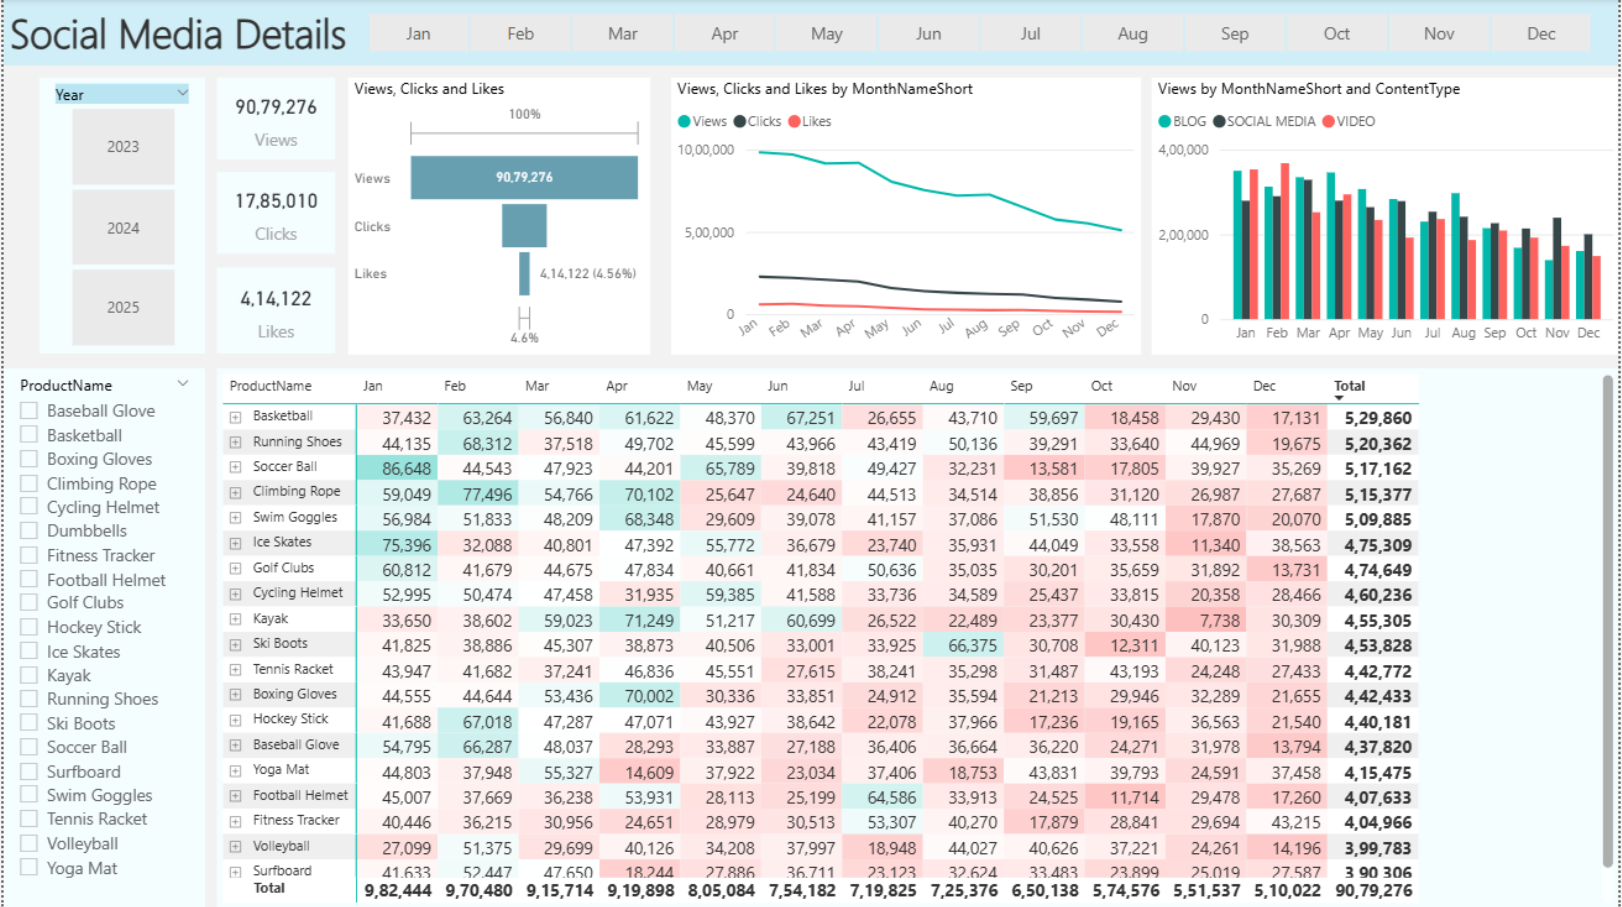

This screenshot's page, from the dashboard's own definition file:
{"tool":"powerbi","page":{"name":"Social Media Details","canvas":[1280,720],"ordinal":2},"visuals":[{"type":"textbox","box":[0,0,1280,52.6],"z":0},{"type":"slicer","fields":{"Values":["dim_products.ProductName"]},"box":[0,61.6,159.5,658.5],"z":1000},{"type":"lineChart","fields":{"Y":["_Calculations.Views","_Calculations.Clicks","_Calculations.Likes"],"Category":["Calendar.MonthNameShort"]},"box":[528.5,61.9,371.6,218.8],"z":2000},{"type":"funnel","fields":{"Y":["_Calculations.Views","_Calculations.Clicks","_Calculations.Likes"]},"box":[272.5,61.9,239.5,218.8],"z":3000},{"type":"card","fields":{"Values":["_Calculations.Views"]},"box":[168.3,61.9,93.9,65],"z":4000},{"type":"card","fields":{"Values":["_Calculations.Clicks"]},"box":[168.3,137.3,93.9,65],"z":5000},{"type":"card","fields":{"Values":["_Calculations.Likes"]},"box":[168.3,212.6,93.9,68.1],"z":6000},{"type":"slicer","fields":{"Values":["Calendar.MonthNameShort"]},"box":[536.8,4.1,743.2,44.4],"z":7000},{"type":"slicer","fields":{"Values":["Calendar.Year"]},"box":[324.1,4.1,208.5,44.4],"z":8000},{"type":"pivotTable","fields":{"Rows":["dim_products.ProductName","fact_engagement.ContentType"],"Values":["_Calculations.Views"],"Columns":["Calendar.MonthNameShort"]},"box":[168.3,292.1,1110.7,428.4],"z":9000},{"type":"clusteredColumnChart","fields":{"Category":["Calendar.MonthNameShort"],"Series":["fact_engagement.ContentType"],"Y":["_Calculations.Views"]},"box":[908.4,61.9,370.6,218.8],"z":10000}]}

Visuals, with their boxes in screenshot pixels (x1, y1, x2, y2), scaled from the page's 1280x720 canvas onto the 1622x907 screenshot:
textbox: {"left": 0, "top": 0, "right": 1621, "bottom": 66}
slicer - dim_products.ProductName: {"left": 0, "top": 78, "right": 202, "bottom": 906}
lineChart - _Calculations.Views x _Calculations.Clicks: {"left": 670, "top": 78, "right": 1141, "bottom": 354}
funnel - _Calculations.Views x _Calculations.Clicks: {"left": 345, "top": 78, "right": 649, "bottom": 354}
card - _Calculations.Views: {"left": 213, "top": 78, "right": 332, "bottom": 160}
card - _Calculations.Clicks: {"left": 213, "top": 173, "right": 332, "bottom": 255}
card - _Calculations.Likes: {"left": 213, "top": 268, "right": 332, "bottom": 354}
slicer - Calendar.MonthNameShort: {"left": 680, "top": 5, "right": 1621, "bottom": 61}
slicer - Calendar.Year: {"left": 411, "top": 5, "right": 675, "bottom": 61}
pivotTable - dim_products.ProductName x fact_engagement.ContentType: {"left": 213, "top": 368, "right": 1621, "bottom": 906}
clusteredColumnChart - Calendar.MonthNameShort x fact_engagement.ContentType: {"left": 1151, "top": 78, "right": 1621, "bottom": 354}
